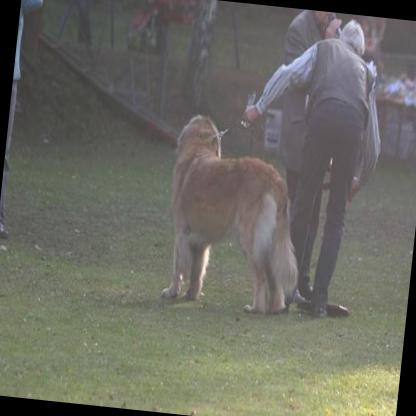Leonberg: (156, 109, 314, 317)
